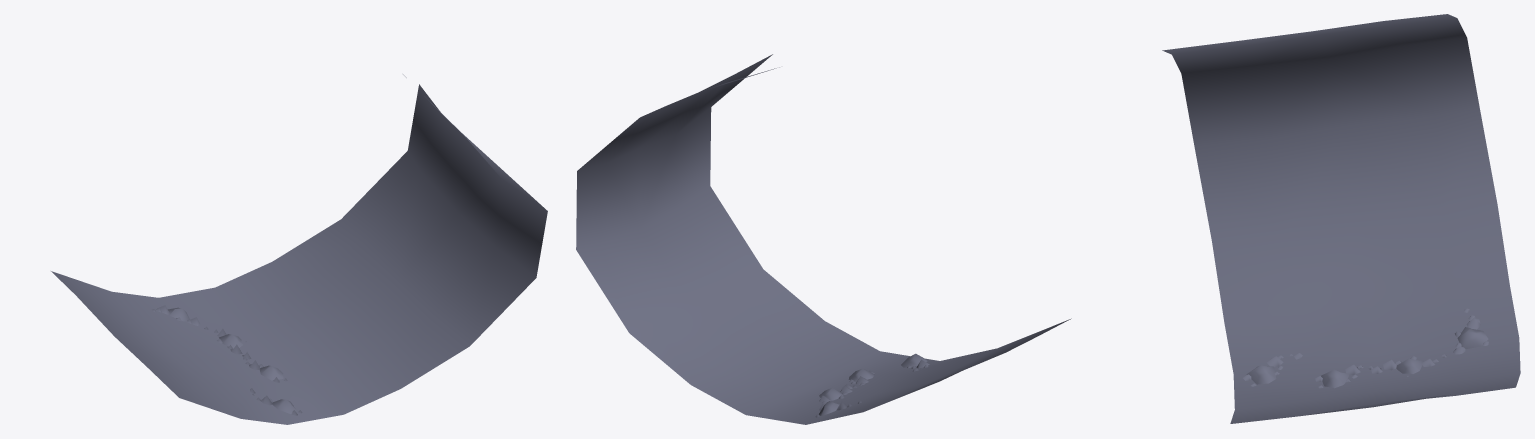
File: Arctic_Luge_Tunnel_Left_Mid_B.glb
3 views of the same model, side by side, from view 1: azimuth 30°, elevation 25°; view 2: azimuth 150°, elevation 25°; view 3: azimuth 270°, elevation 25° (orthographic). The views are drawn at different scales.
Parts seen in each view (by area): view 1: Arctic_Luge_Tunnel_Left_Mid_B; view 2: Arctic_Luge_Tunnel_Left_Mid_B; view 3: Arctic_Luge_Tunnel_Left_Mid_B.
Boxes of the visible parts, x1=… form: Arctic_Luge_Tunnel_Left_Mid_B: x1=51, y1=74, x2=547, y2=424; Arctic_Luge_Tunnel_Left_Mid_B: x1=576, y1=54, x2=1071, y2=424; Arctic_Luge_Tunnel_Left_Mid_B: x1=1162, y1=14, x2=1520, y2=423.
Size of what is drawn, in the model's own units: 4.44 by 3.49 by 3.13.
